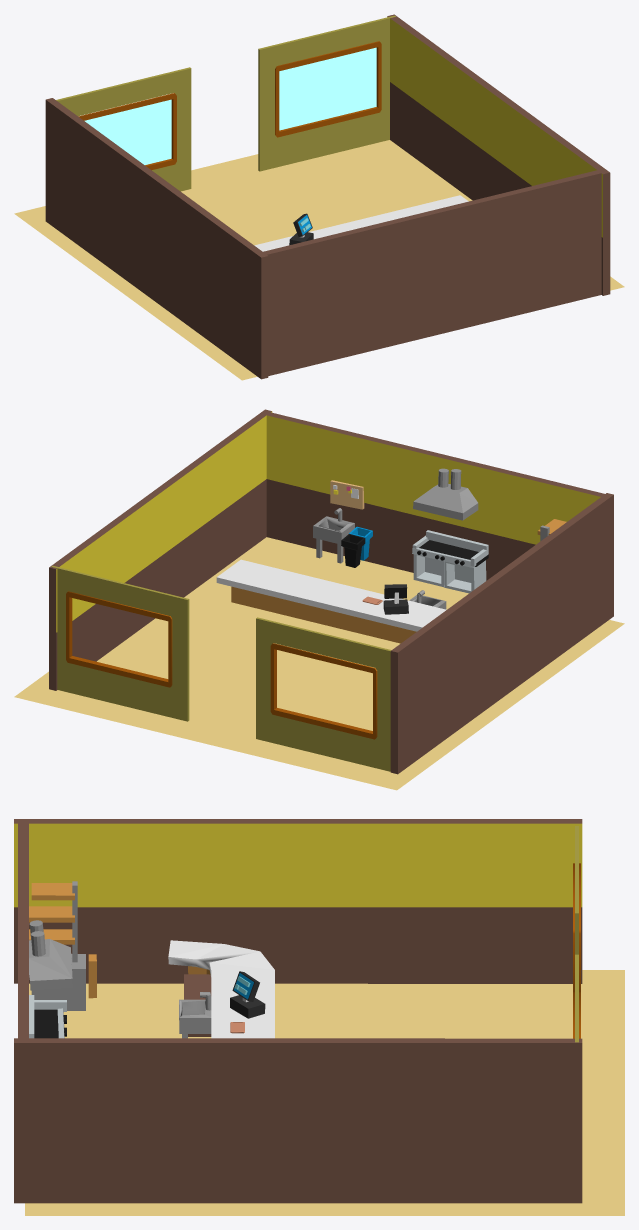
Rendered from restraunt.glb.
3 views of the same model, one above another, from view 1: azimuth 30°, elevation 25°; view 2: azimuth 150°, elevation 25°; view 3: azimuth 270°, elevation 25° (orthographic). The views are drawn at different scales.
Parts seen in each view (by area): view 1: group1358954356.001, (%ignore).001, Plane; view 2: group1358954356.001, Plane, (%ignore).001; view 3: group1358954356.001, Plane, (%ignore).001.
Boxes of the visible parts, x1,y1,x2,y2 form: group1358954356.001: [45, 14, 610, 379]; (%ignore).001: [56, 15, 395, 191]; Plane: [14, 140, 624, 380]; group1358954356.001: [49, 409, 613, 774]; Plane: [14, 537, 624, 790]; (%ignore).001: [51, 566, 391, 771]; group1358954356.001: [14, 819, 582, 1203]; Plane: [25, 970, 624, 1215]; (%ignore).001: [573, 826, 580, 1042].
Bounding box in the file's own units: 26 × 8 × 27.3.
5 materials, 5 textured.
